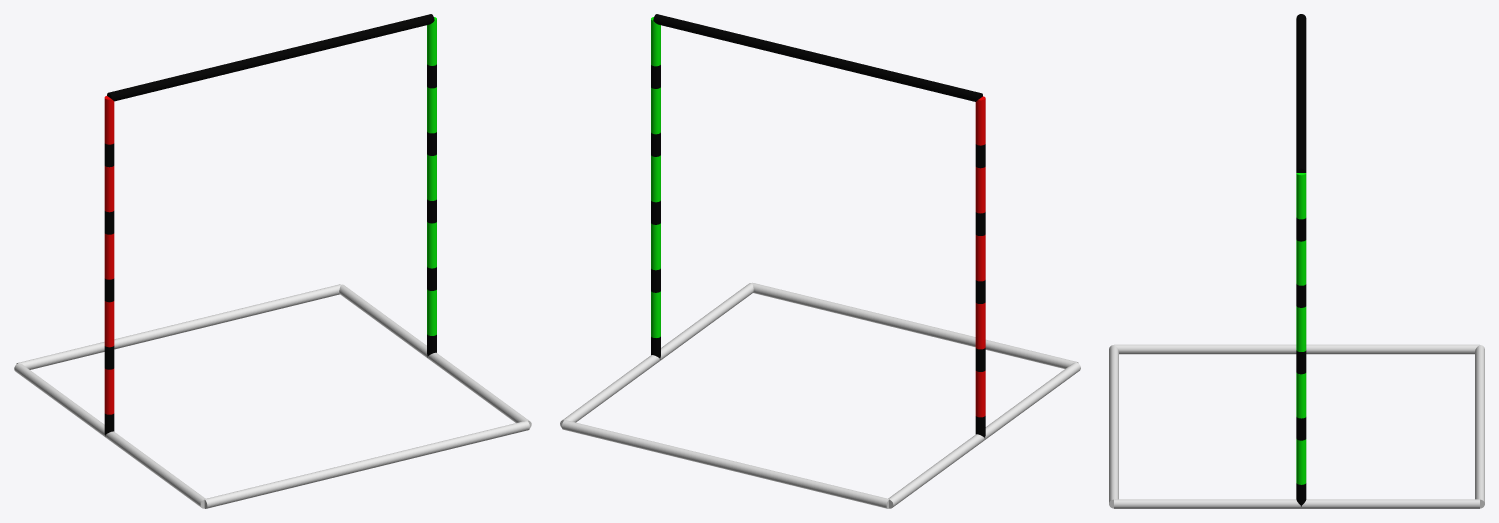
File: red_green_gate.dae
3 views of the same model, side by side, from view 1: azimuth 30°, elevation 25°; view 2: azimuth 150°, elevation 25°; view 3: azimuth 270°, elevation 25° (orthographic). The views are drawn at different scales.
Parts seen in each view (by area): view 1: Cylinder.004, Cylinder.010; view 2: Cylinder.004, Cylinder.010; view 3: Cylinder.004, Cylinder.010.
Boxes of the visible parts, bbox=[...] form: Cylinder.004: bbox=[14, 284, 531, 508]; Cylinder.010: bbox=[104, 14, 436, 436]; Cylinder.004: bbox=[560, 282, 1080, 508]; Cylinder.010: bbox=[651, 14, 985, 438]; Cylinder.004: bbox=[1109, 344, 1484, 508]; Cylinder.010: bbox=[1296, 14, 1306, 506].
Size of the model in its own units: 1.54 by 1.54 by 1.54.
